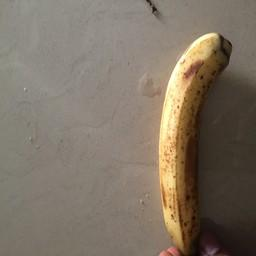Banana Ripe: (155, 18, 236, 256)
